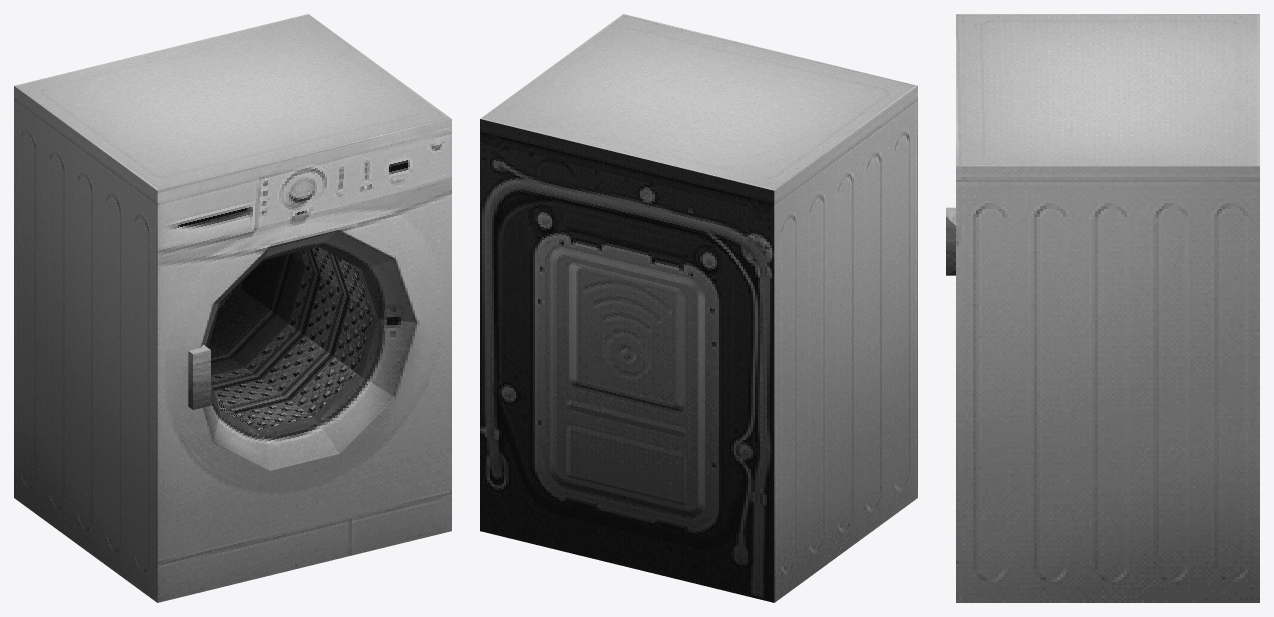
File: washing-machine_clean.glb
3 views of the same model, side by side, from view 1: azimuth 30°, elevation 25°; view 2: azimuth 150°, elevation 25°; view 3: azimuth 270°, elevation 25° (orthographic). The views are drawn at different scales.
Parts seen in each view (by area): view 1: washing-machine_clean-col; view 2: washing-machine_clean-col; view 3: washing-machine_clean-col.
Part boxes in pixels (bbox=[...]): washing-machine_clean-col: bbox=[14, 14, 451, 602]; washing-machine_clean-col: bbox=[480, 14, 917, 602]; washing-machine_clean-col: bbox=[946, 14, 1259, 602].
Size of the model in its own units: 0.74 by 0.99 by 0.6449.
Materials: 1 (1 with a texture image).
